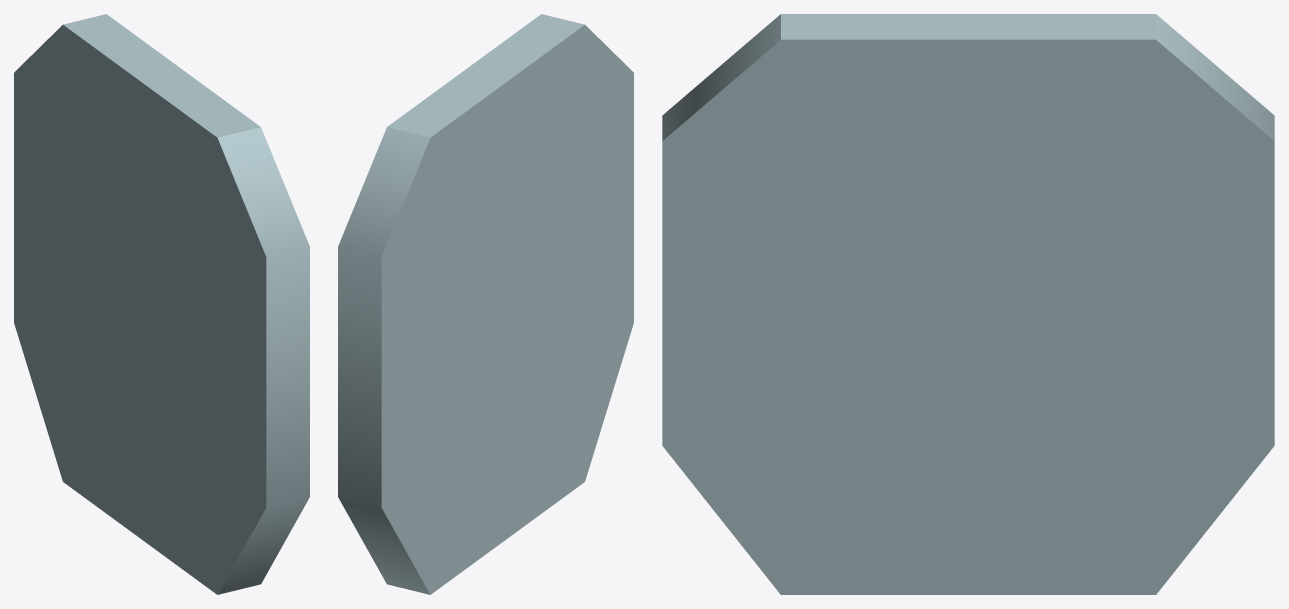
File: bathMirror.fbx
The picture shows the model from 3 angles, left to right: view 1: azimuth 30°, elevation 25°; view 2: azimuth 150°, elevation 25°; view 3: azimuth 270°, elevation 25°; orthographic projection. The views are drawn at different scales.
Parts seen in each view (by area): view 1: mirror; view 2: mirror; view 3: mirror.
Boxes of the visible parts, x1,y1,x2,y2 form: mirror: (14,14,309,594); mirror: (338,14,633,594); mirror: (662,14,1274,594).
Size of the model in its own units: 0.0997 by 1 by 1.
